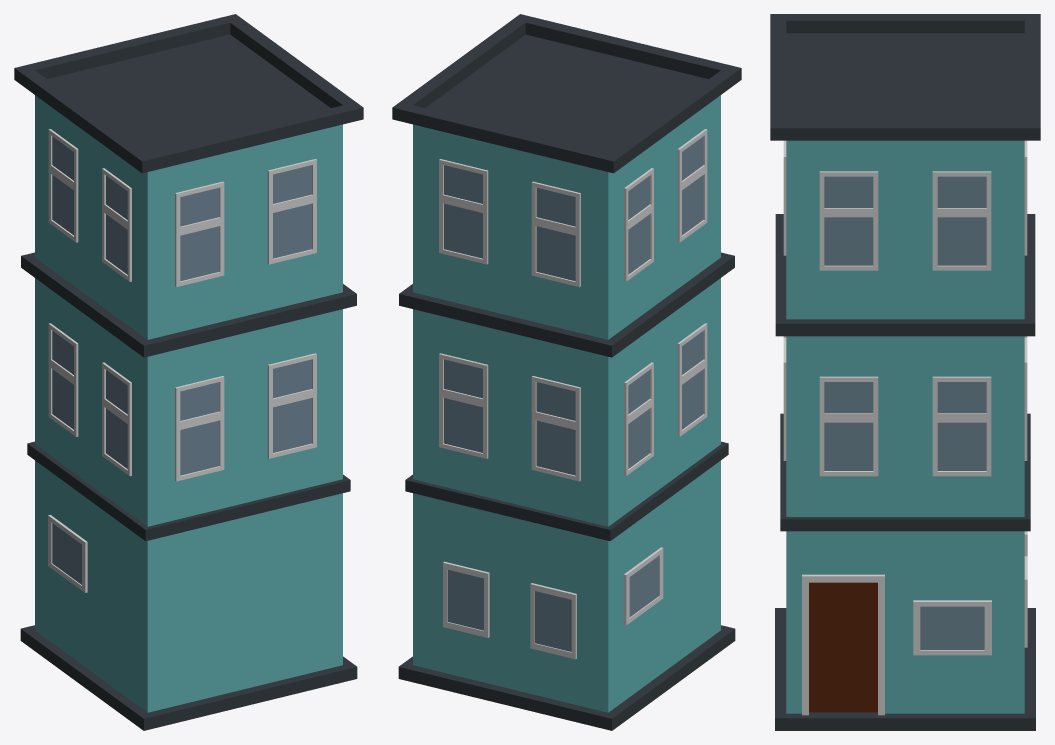
Rendered from tall cyan.fbx.
The picture shows the model from 3 angles, left to right: view 1: azimuth 30°, elevation 25°; view 2: azimuth 150°, elevation 25°; view 3: azimuth 270°, elevation 25°; orthographic projection. The views are drawn at different scales.
Parts seen in each view (by area): view 1: tall 1x1 cyan; view 2: tall 1x1 cyan; view 3: tall 1x1 cyan.
Boxes of the visible parts, x1,y1,x2,y2 form: tall 1x1 cyan: [14, 14, 363, 730]; tall 1x1 cyan: [392, 14, 741, 730]; tall 1x1 cyan: [770, 14, 1040, 730].
Size of the model in its own units: 3.82 by 9.44 by 3.82.
